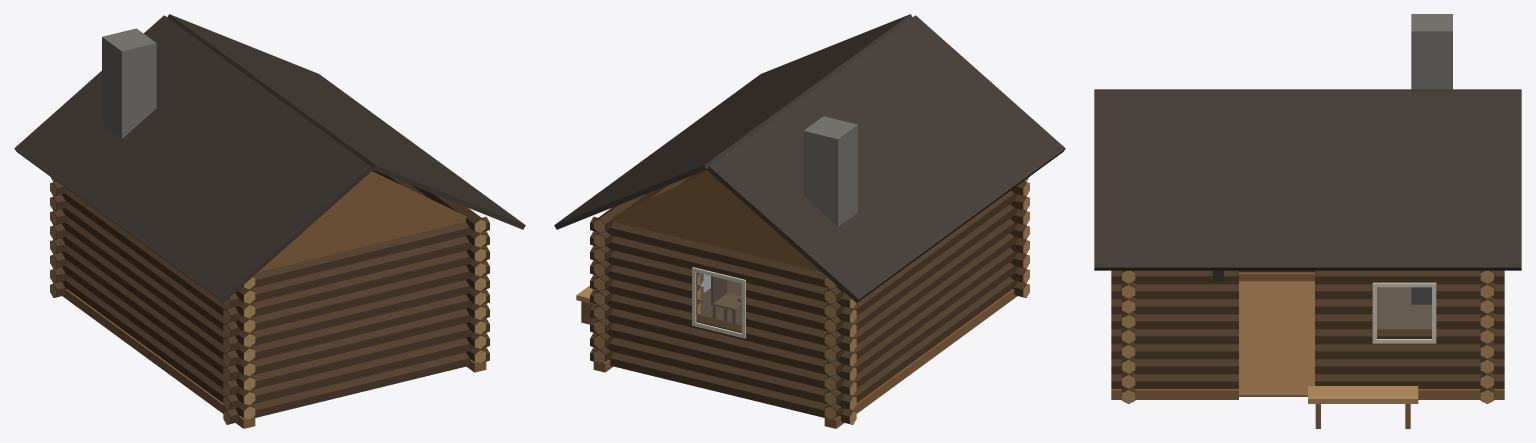
Rendered from les_paseka_srub_interier.glb.
3 renders of one model, left to right at view 1: azimuth 30°, elevation 25°; view 2: azimuth 150°, elevation 25°; view 3: azimuth 270°, elevation 25°, orthographic. The views are drawn at different scales.
Parts seen in each view (by area): view 1: srub; view 2: srub, nabytek, podlaha; view 3: srub, podlaha.
Part boxes in pixels (x1,y1,x2,y2): srub: (14, 14, 525, 428); srub: (554, 14, 1065, 428); nabytek: (711, 276, 741, 323); podlaha: (700, 280, 741, 324); srub: (1094, 14, 1521, 428); podlaha: (1239, 281, 1431, 396).
Bounding box in the file's own units: 5.77 × 4.4 × 6.2.
Materials: 3 (1 with a texture image).
